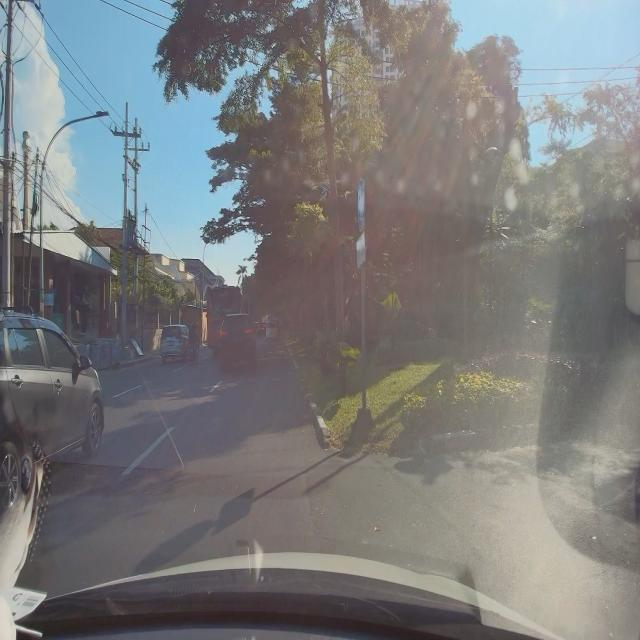car: (159, 323, 191, 361)
